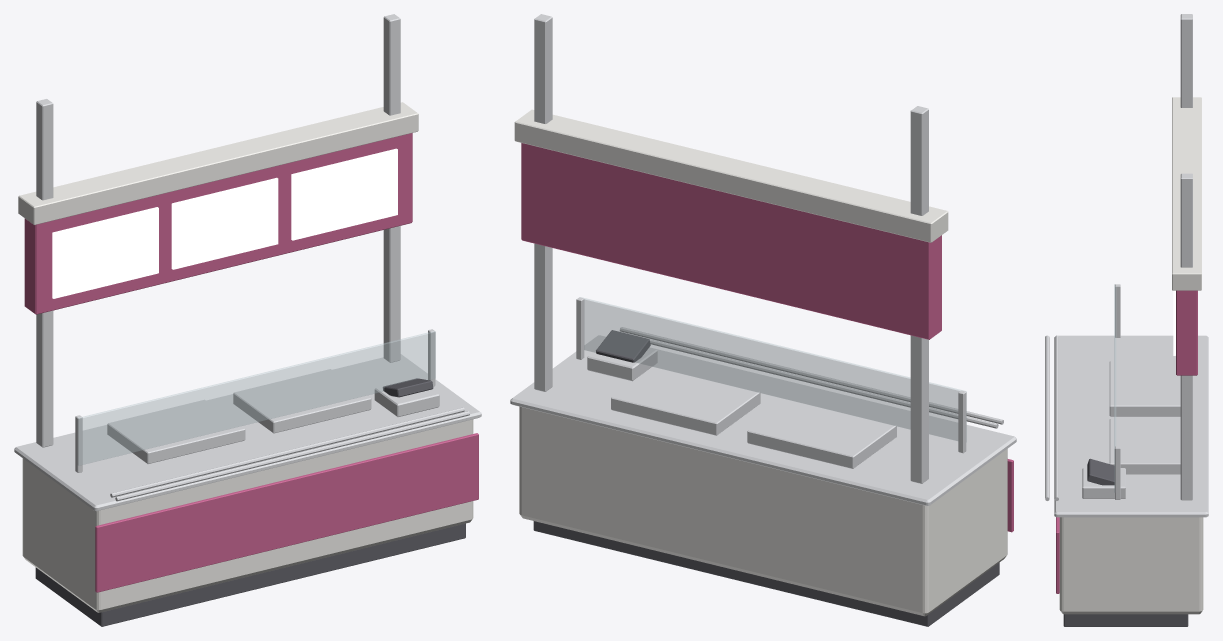
The model's file is motorway-services-and-truck-park-food-court-counter-be-3117ba2b__35933.glb.
The picture shows the model from 3 angles, left to right: view 1: azimuth 30°, elevation 25°; view 2: azimuth 150°, elevation 25°; view 3: azimuth 270°, elevation 25°; orthographic projection. The views are drawn at different scales.
Parts seen in each view (by area): view 1: food-court-counter-berry; view 2: food-court-counter-berry; view 3: food-court-counter-berry.
Part boxes in pixels (x1,y1,x2,y2): food-court-counter-berry: (14,14,481,626); food-court-counter-berry: (510,14,1016,626); food-court-counter-berry: (1045,14,1208,626).
Size of the model in its own units: 3.08 by 3.61 by 1.2.
